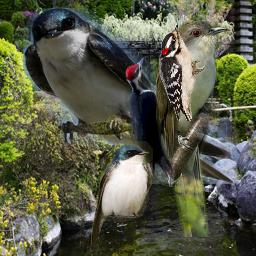Cuckoo: (156, 13, 231, 237)
Swallow: (23, 8, 233, 184), (91, 140, 153, 247)
Woodpecker: (125, 56, 186, 187), (159, 23, 205, 121)
